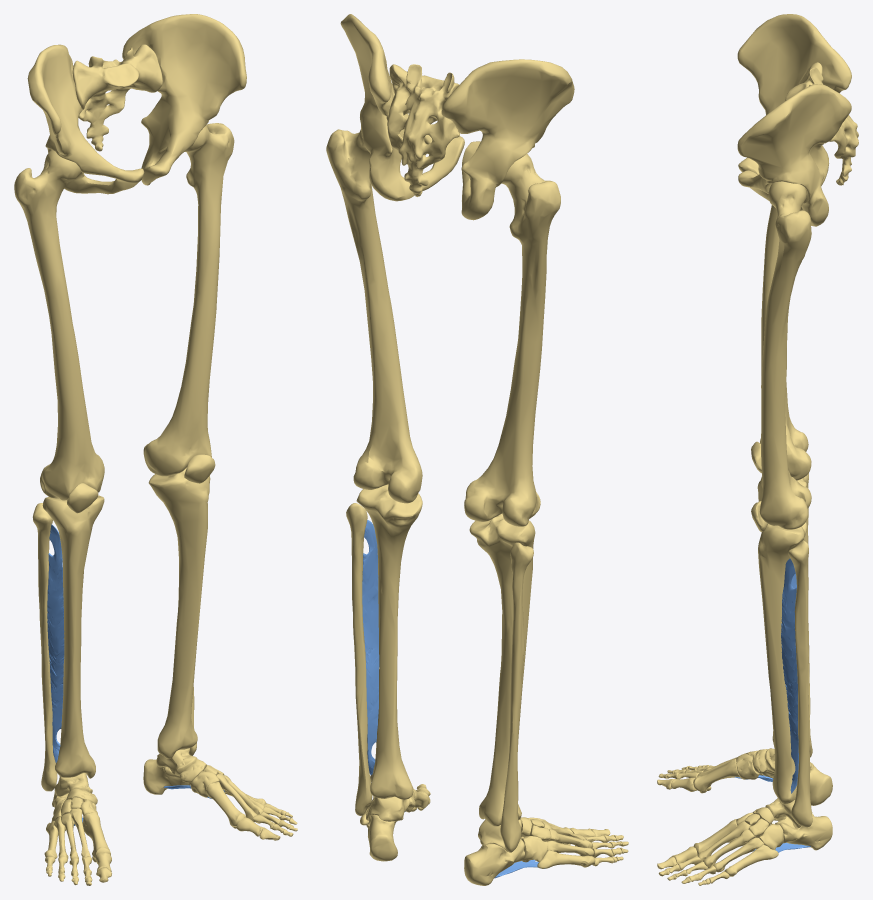
The picture shows the model from 3 angles, left to right: view 1: azimuth 30°, elevation 25°; view 2: azimuth 150°, elevation 25°; view 3: azimuth 270°, elevation 25°; orthographic projection. The views are drawn at different scales.
Parts seen in each view (by area): view 1: hip-pelvis:femur:isa:FJ3365, hip-pelvis:hip-bone:isa:FJ3288, hip-pelvis:femur:isa:FJ3259, knee:tibia:isa:FJ3282, knee:tibia:isa:FJ3387, hip-pelvis:hip-bone:isa:FJ3152, spine-trunk:sacrum:isa:FJ3393, supplemental:interosseous-membrane-of-leg:isa:FJ1392, knee:fibula:isa:FJ3366, ankle-foot:calcaneus:isa:FJ3256, ankle-foot:first-metatarsal-bone:isa:FJ3351, ankle-foot:first-metatarsal-bone:isa:FJ3241 (+4 smaller); view 2: hip-pelvis:femur:isa:FJ3365, hip-pelvis:femur:isa:FJ3259, hip-pelvis:hip-bone:isa:FJ3152, knee:tibia:isa:FJ3282, hip-pelvis:hip-bone:isa:FJ3288, knee:tibia:isa:FJ3387, spine-trunk:sacrum:isa:FJ3393, knee:fibula:isa:FJ3366, knee:fibula:isa:FJ3260, supplemental:interosseous-membrane-of-leg:isa:FJ1392M, ankle-foot:calcaneus:isa:FJ3360, ankle-foot:calcaneus:isa:FJ3256 (+2 smaller); view 3: hip-pelvis:femur:isa:FJ3259, hip-pelvis:hip-bone:isa:FJ3288, hip-pelvis:hip-bone:isa:FJ3152, knee:tibia:isa:FJ3282, knee:fibula:isa:FJ3260, supplemental:interosseous-membrane-of-leg:isa:FJ1392M, hip-pelvis:femur:isa:FJ3365, spine-trunk:sacrum:isa:FJ3393, ankle-foot:calcaneus:isa:FJ3256, ankle-foot:calcaneus:isa:FJ3360, ankle-foot:first-metatarsal-bone:isa:FJ3351, ankle-foot:fifth-metatarsal-bone:isa:FJ3253 (+8 smaller).
Part boxes in pixels (x1,y1,x2,y2): hip-pelvis:femur:isa:FJ3365: [14, 149, 104, 500]; hip-pelvis:hip-bone:isa:FJ3288: [122, 14, 246, 185]; hip-pelvis:femur:isa:FJ3259: [143, 123, 234, 476]; knee:tibia:isa:FJ3282: [148, 467, 210, 758]; knee:tibia:isa:FJ3387: [42, 495, 104, 778]; hip-pelvis:hip-bone:isa:FJ3152: [27, 44, 144, 194]; spine-trunk:sacrum:isa:FJ3393: [72, 44, 162, 151]; supplemental:interosseous-membrane-of-leg:isa:FJ1392: [47, 524, 64, 762]; knee:fibula:isa:FJ3366: [32, 503, 57, 791]; ankle-foot:calcaneus:isa:FJ3256: [143, 759, 190, 794]; ankle-foot:first-metatarsal-bone:isa:FJ3351: [82, 812, 110, 858]; ankle-foot:first-metatarsal-bone:isa:FJ3241: [206, 782, 245, 826]; hip-pelvis:femur:isa:FJ3365: [464, 154, 560, 526]; hip-pelvis:femur:isa:FJ3259: [326, 129, 422, 503]; hip-pelvis:hip-bone:isa:FJ3152: [441, 59, 574, 220]; knee:tibia:isa:FJ3282: [356, 484, 422, 799]; hip-pelvis:hip-bone:isa:FJ3288: [340, 14, 464, 201]; knee:tibia:isa:FJ3387: [469, 514, 535, 826]; spine-trunk:sacrum:isa:FJ3393: [386, 64, 459, 196]; knee:fibula:isa:FJ3366: [500, 542, 533, 852]; knee:fibula:isa:FJ3260: [346, 503, 372, 815]; supplemental:interosseous-membrane-of-leg:isa:FJ1392M: [362, 520, 379, 775]; ankle-foot:calcaneus:isa:FJ3360: [464, 838, 524, 885]; ankle-foot:calcaneus:isa:FJ3256: [366, 807, 403, 861]; hip-pelvis:femur:isa:FJ3259: [759, 181, 811, 529]; hip-pelvis:hip-bone:isa:FJ3288: [737, 84, 851, 226]; hip-pelvis:hip-bone:isa:FJ3152: [737, 14, 851, 185]; knee:tibia:isa:FJ3282: [758, 522, 806, 804]; knee:fibula:isa:FJ3260: [788, 540, 812, 827]; supplemental:interosseous-membrane-of-leg:isa:FJ1392M: [781, 558, 798, 793]; hip-pelvis:femur:isa:FJ3365: [760, 205, 811, 480]; spine-trunk:sacrum:isa:FJ3393: [785, 62, 858, 185]; ankle-foot:calcaneus:isa:FJ3256: [775, 813, 832, 850]; ankle-foot:calcaneus:isa:FJ3360: [810, 762, 832, 805]; ankle-foot:first-metatarsal-bone:isa:FJ3351: [693, 759, 739, 791]; ankle-foot:fifth-metatarsal-bone:isa:FJ3253: [724, 844, 778, 876].
Bounding box in the file's own units: 0.3387 × 1.03 × 0.2433.
